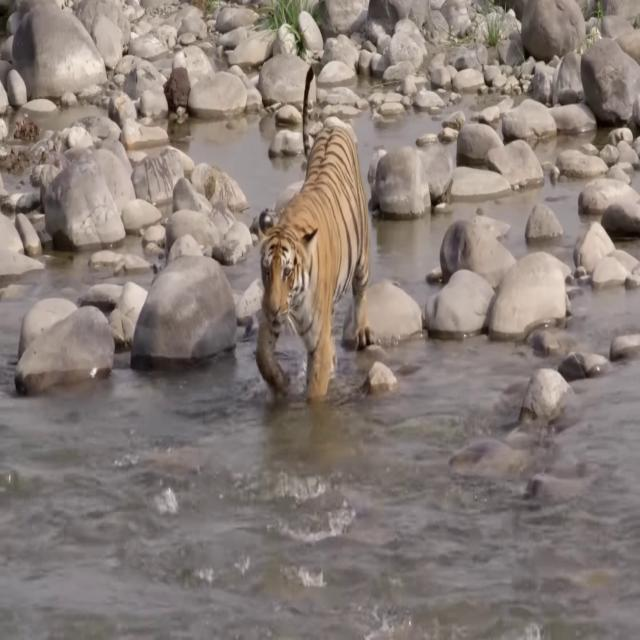tiger: (255, 65, 376, 398)
